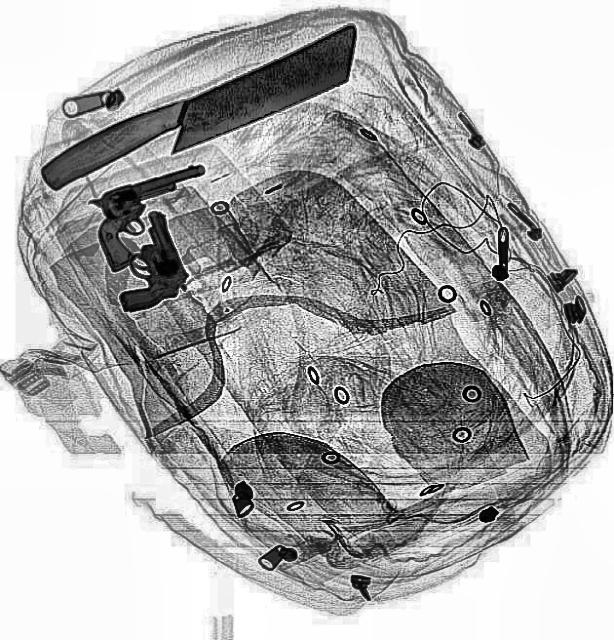Gun: (81, 162, 227, 272), (90, 205, 194, 315)
Knife: (28, 20, 376, 202)
